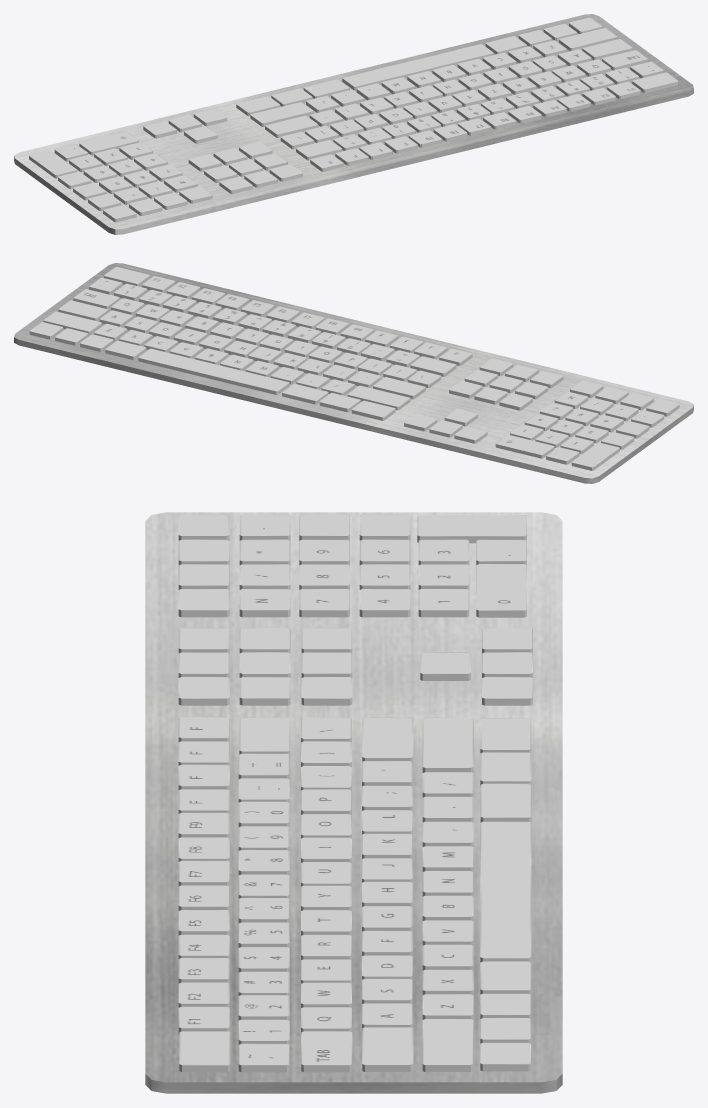
File: keyboard.fbx
The picture shows the model from 3 angles, top to bottom: view 1: azimuth 30°, elevation 25°; view 2: azimuth 150°, elevation 25°; view 3: azimuth 270°, elevation 25°; orthographic projection. The views are drawn at different scales.
Parts seen in each view (by area): view 1: pCube230, pCube7; view 2: pCube230, pCube7; view 3: pCube230, pCube7.
Boxes of the visible parts, box(x1,y1,x2,y2) form: pCube230: box(29, 17, 678, 222); pCube7: box(14, 14, 693, 234); pCube230: box(29, 267, 679, 470); pCube7: box(14, 263, 693, 483); pCube230: box(178, 514, 532, 1072); pCube7: box(145, 512, 562, 1093).
Size of the model in its own units: 1.38 by 0.0205 by 0.426.
